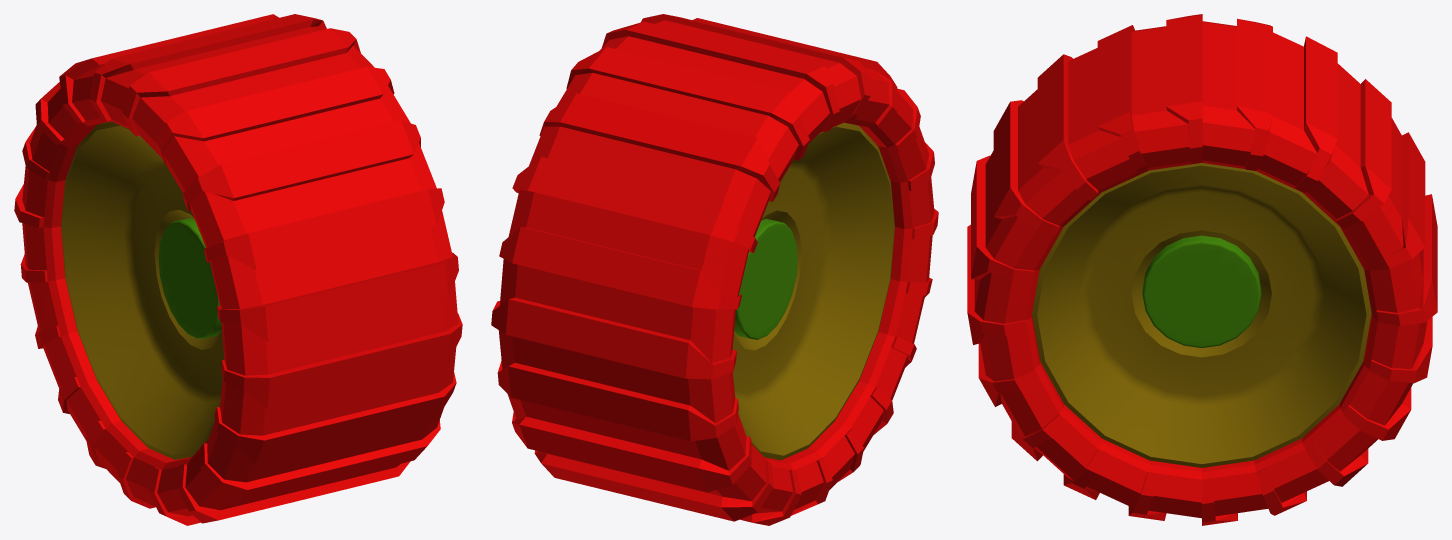
File: Car_LeftFrontWheel_V1.fbx
The picture shows the model from 3 angles, left to right: view 1: azimuth 30°, elevation 25°; view 2: azimuth 150°, elevation 25°; view 3: azimuth 270°, elevation 25°; orthographic projection. The views are drawn at different scales.
Visible parts, largest first — view 1: polySurface2, polySurface6, polySurface4; view 2: polySurface2, polySurface6, polySurface4; view 3: polySurface2, polySurface6, polySurface4.
Part boxes in pixels (left/top/right/bottom): polySurface2: left=14, top=14, right=462, bottom=525; polySurface6: left=61, top=121, right=224, bottom=459; polySurface4: left=158, top=218, right=221, bottom=339; polySurface2: left=491, top=14, right=938, bottom=525; polySurface6: left=732, top=122, right=894, bottom=460; polySurface4: left=734, top=219, right=797, bottom=339; polySurface2: left=967, top=14, right=1437, bottom=525; polySurface6: left=1032, top=163, right=1371, bottom=467; polySurface4: left=1142, top=235, right=1261, bottom=347.
Size of the model in its own units: 0.00513 by 0.009 by 0.00903.
